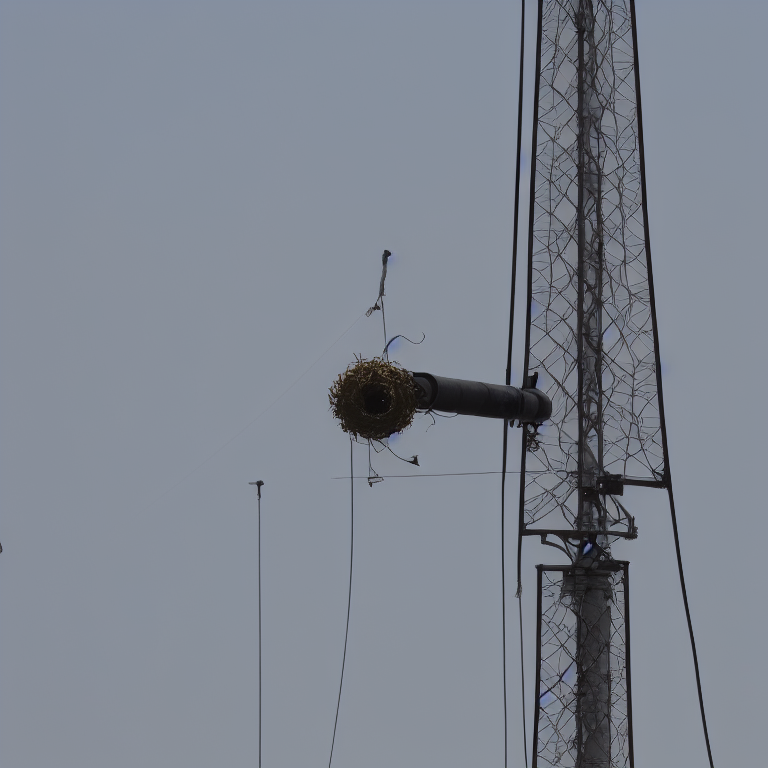nest: (337, 364, 417, 436)
